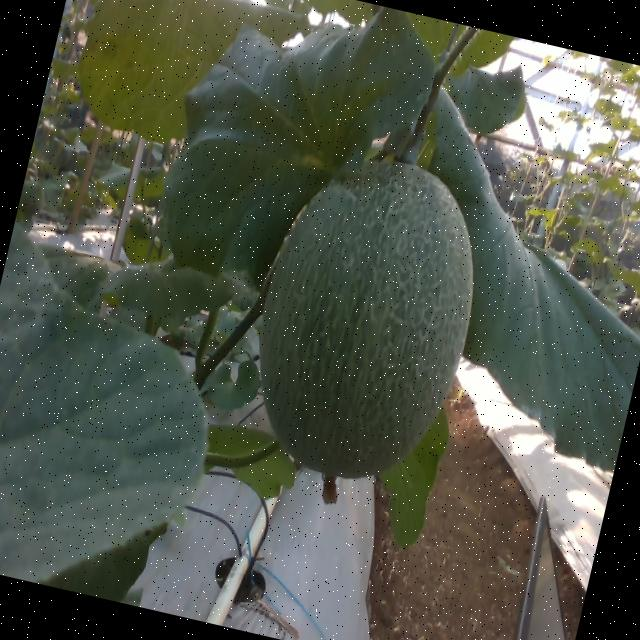melon: (260, 162, 473, 479)
